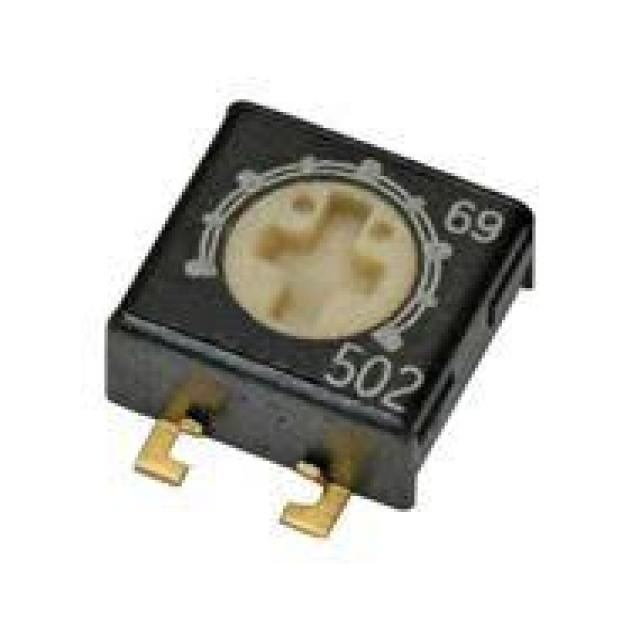potentiometer POT1: (115, 86, 528, 552)
